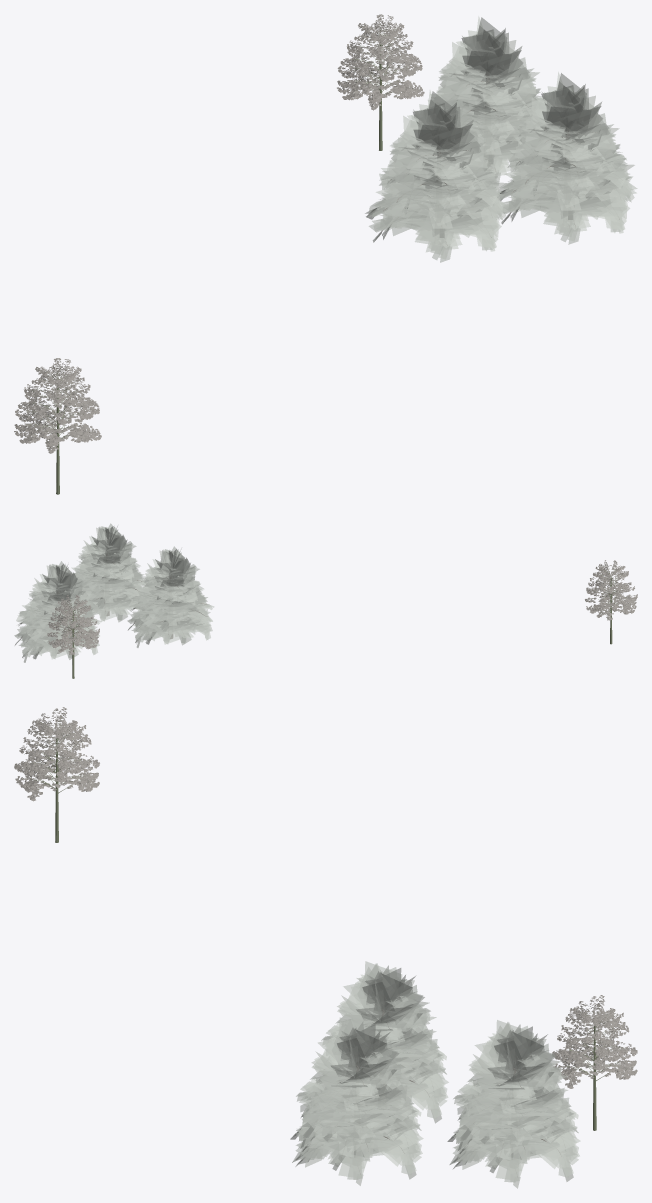
3 views of the same model, one above another, from view 1: azimuth 30°, elevation 25°; view 2: azimuth 150°, elevation 25°; view 3: azimuth 270°, elevation 25° (orthographic). The views are drawn at different scales.
Visible parts, largest first — view 1: 1IPzRwP5D9MBpYfOJkUtOX, 1IPzRwP5D9MBpYfOJkUtOL, 1IPzRwP5D9MBpYfOJkUtO3, 3A8qgd9K9BBgraSx_Zwa5m, 2OJaVbRsr1ZvcW_WiS3f0d; view 2: 1IPzRwP5D9MBpYfOJkUtOX, 1IPzRwP5D9MBpYfOJkUtOL, 1IPzRwP5D9MBpYfOJkUtO3, 3A8qgd9K9BBgraSx_Zwa5m, 2OJaVbRsr1ZvcW_WiS3f0d; view 3: 1IPzRwP5D9MBpYfOJkUtOL, 1IPzRwP5D9MBpYfOJkUtO3, 1IPzRwP5D9MBpYfOJkUtOX, 2OJaVbRsr1ZvcW_WiS3f0d, 3A8qgd9K9BBgraSx_Zwa5m.
Boxes of the visible parts, x1,y1,x2,y2 form: 1IPzRwP5D9MBpYfOJkUtOX: [365, 90, 508, 262]; 1IPzRwP5D9MBpYfOJkUtOL: [498, 72, 637, 244]; 1IPzRwP5D9MBpYfOJkUtO3: [428, 16, 542, 185]; 3A8qgd9K9BBgraSx_Zwa5m: [337, 14, 424, 150]; 2OJaVbRsr1ZvcW_WiS3f0d: [14, 358, 101, 494]; 1IPzRwP5D9MBpYfOJkUtOX: [127, 546, 214, 647]; 1IPzRwP5D9MBpYfOJkUtOL: [71, 523, 146, 622]; 1IPzRwP5D9MBpYfOJkUtO3: [14, 561, 101, 662]; 3A8qgd9K9BBgraSx_Zwa5m: [47, 595, 99, 678]; 2OJaVbRsr1ZvcW_WiS3f0d: [585, 560, 637, 644]; 1IPzRwP5D9MBpYfOJkUtOL: [290, 1017, 423, 1185]; 1IPzRwP5D9MBpYfOJkUtO3: [447, 1020, 580, 1188]; 1IPzRwP5D9MBpYfOJkUtOX: [321, 961, 448, 1123]; 2OJaVbRsr1ZvcW_WiS3f0d: [14, 707, 99, 842]; 3A8qgd9K9BBgraSx_Zwa5m: [552, 995, 637, 1130].
Size of the model in its own units: 55.79 by 10.55 by 40.09.
